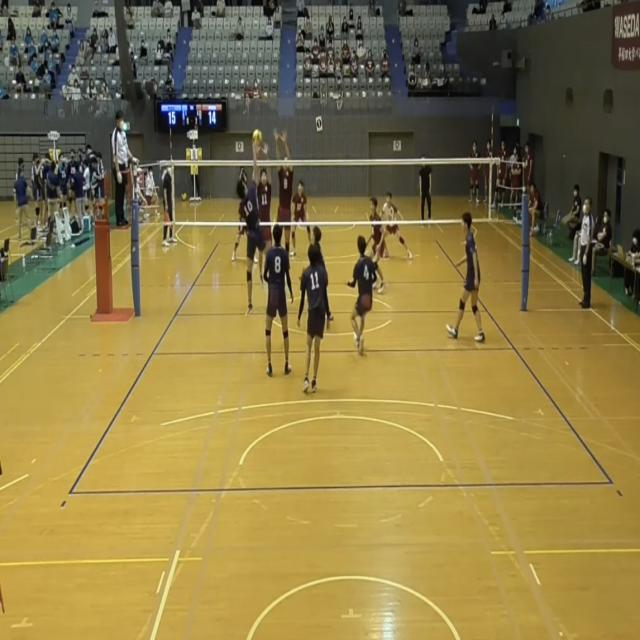spike: (234, 125, 270, 319)
